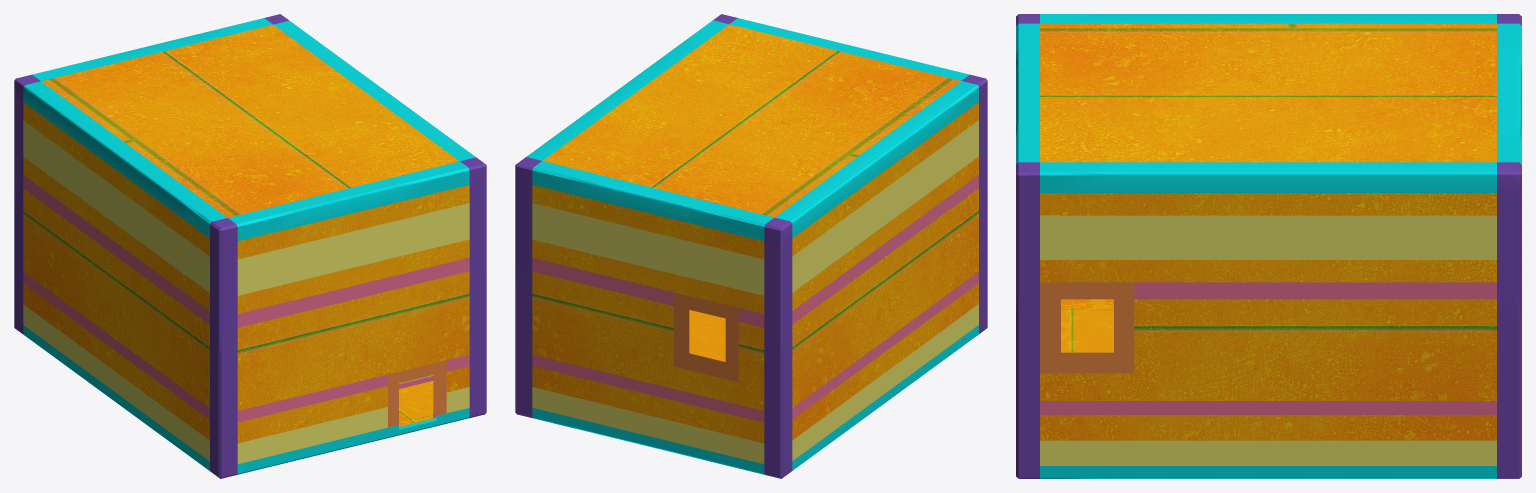
File: sm_barracks.fbx
The picture shows the model from 3 angles, left to right: view 1: azimuth 30°, elevation 25°; view 2: azimuth 150°, elevation 25°; view 3: azimuth 270°, elevation 25°; orthographic projection. The views are drawn at different scales.
Parts seen in each view (by area): view 1: shell, floor; view 2: shell, f2_floor_2; view 3: shell, f2_floor_2.
Boxes of the visible parts, x1,y1,x2,y2 form: shell: (14,14,486,478); floor: (399,381,433,426); shell: (515,14,987,478); f2_floor_2: (689,310,725,361); shell: (1016,14,1521,478); f2_floor_2: (1061,299,1113,352).
Size of the model in its own units: 1472 by 1316 by 1964.
8 materials, 2 textured.
